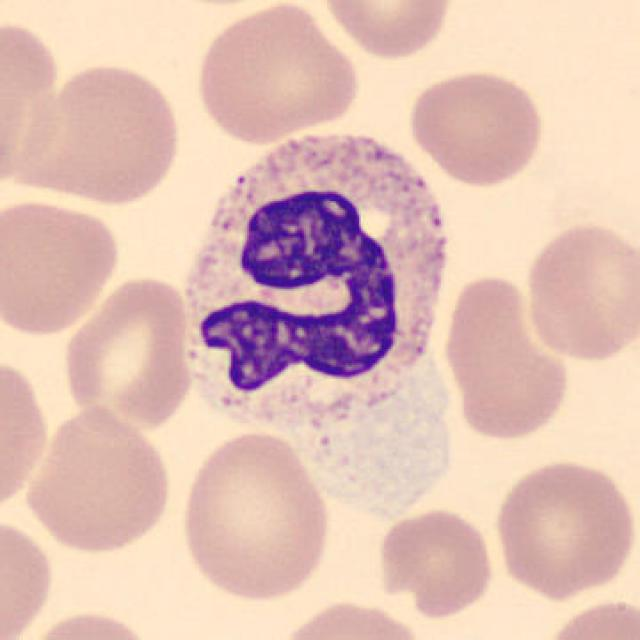Neutrophil: (173, 122, 460, 472)
RBC: (174, 426, 336, 606), (10, 58, 186, 208), (190, 0, 362, 146), (21, 404, 176, 557), (439, 270, 574, 444), (59, 271, 197, 432), (489, 455, 636, 601), (403, 66, 548, 190), (0, 193, 124, 338), (519, 217, 638, 367), (373, 504, 498, 621), (0, 14, 68, 194), (0, 349, 55, 518), (315, 0, 457, 62), (0, 511, 57, 640), (272, 596, 430, 640), (14, 606, 161, 640), (540, 596, 638, 640)
